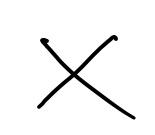mult: (37, 35, 136, 120)
